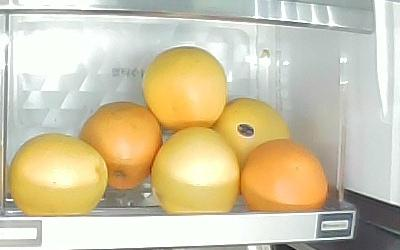grapefruit: (9, 132, 108, 214), (142, 45, 229, 134), (150, 127, 241, 212), (79, 101, 164, 191), (241, 139, 329, 210), (212, 97, 292, 168)
